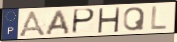A: (16, 9, 48, 37), (44, 9, 72, 36)
H: (96, 7, 121, 33)
L: (150, 5, 169, 31)
P: (71, 8, 97, 35)
Q: (122, 6, 146, 33)
